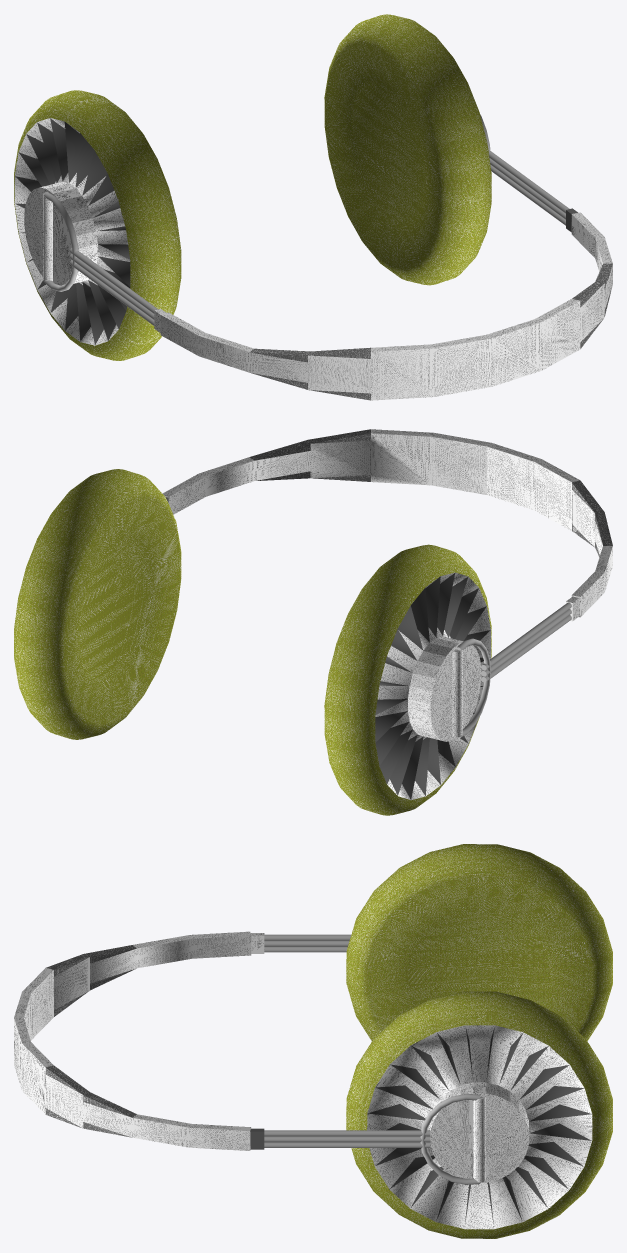
The model's file is model_align.obj.
3 renders of one model, top to bottom at view 1: azimuth 30°, elevation 25°; view 2: azimuth 150°, elevation 25°; view 3: azimuth 270°, elevation 25°, orthographic. The views are drawn at different scales.
Visible parts, largest first — view 1: mesh1_mesh1-geometry, mesh3_mesh3-geometry, mesh7_mesh7-geometry, mesh2_mesh2-geometry, mesh11_mesh11-geometry, mesh8_mesh8-geometry, mesh4_mesh4-geometry, mesh5_mesh5-geometry; view 2: mesh1_mesh1-geometry, mesh11_mesh11-geometry, mesh7_mesh7-geometry, mesh2_mesh2-geometry, mesh8_mesh8-geometry, mesh5_mesh5-geometry, mesh3_mesh3-geometry; view 3: mesh2_mesh2-geometry, mesh6_mesh6-geometry, mesh1_mesh1-geometry, mesh11_mesh11-geometry, mesh3_mesh3-geometry, mesh4_mesh4-geometry, mesh8_mesh8-geometry, mesh9_mesh9-geometry.
Boxes of the visible parts, box(x1,y1,x2,y2) form: mesh1_mesh1-geometry: box(324, 14, 491, 285); mesh3_mesh3-geometry: box(160, 264, 612, 400); mesh7_mesh7-geometry: box(14, 118, 130, 345); mesh2_mesh2-geometry: box(14, 90, 181, 360); mesh11_mesh11-geometry: box(161, 212, 612, 355); mesh8_mesh8-geometry: box(69, 248, 166, 332); mesh4_mesh4-geometry: box(488, 150, 577, 232); mesh5_mesh5-geometry: box(44, 192, 78, 291); mesh1_mesh1-geometry: box(14, 469, 181, 739); mesh11_mesh11-geometry: box(162, 429, 612, 617); mesh7_mesh7-geometry: box(375, 572, 490, 800); mesh2_mesh2-geometry: box(324, 544, 491, 815); mesh8_mesh8-geometry: box(481, 595, 579, 682); mesh5_mesh5-geometry: box(456, 638, 490, 738); mesh3_mesh3-geometry: box(580, 546, 612, 616); mesh2_mesh2-geometry: box(346, 844, 612, 1040); mesh6_mesh6-geometry: box(367, 1025, 592, 1229); mesh1_mesh1-geometry: box(346, 991, 612, 1238); mesh11_mesh11-geometry: box(14, 931, 251, 1150); mesh3_mesh3-geometry: box(14, 1018, 249, 1150); mesh4_mesh4-geometry: box(250, 1128, 430, 1149); mesh8_mesh8-geometry: box(250, 933, 351, 953); mesh9_mesh9-geometry: box(420, 1093, 480, 1184).
Bounding box in the file's own units: 0.1154 × 0.0652 × 0.1464.
7 materials, 1 textured.
